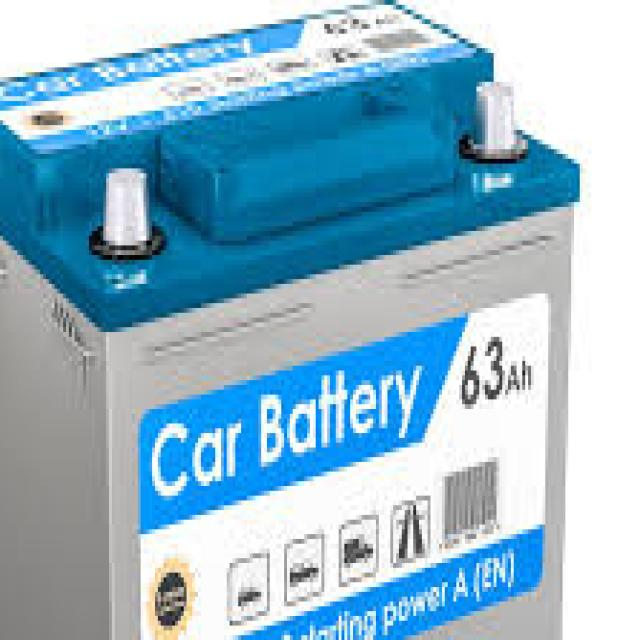organic: (0, 83, 564, 640)
